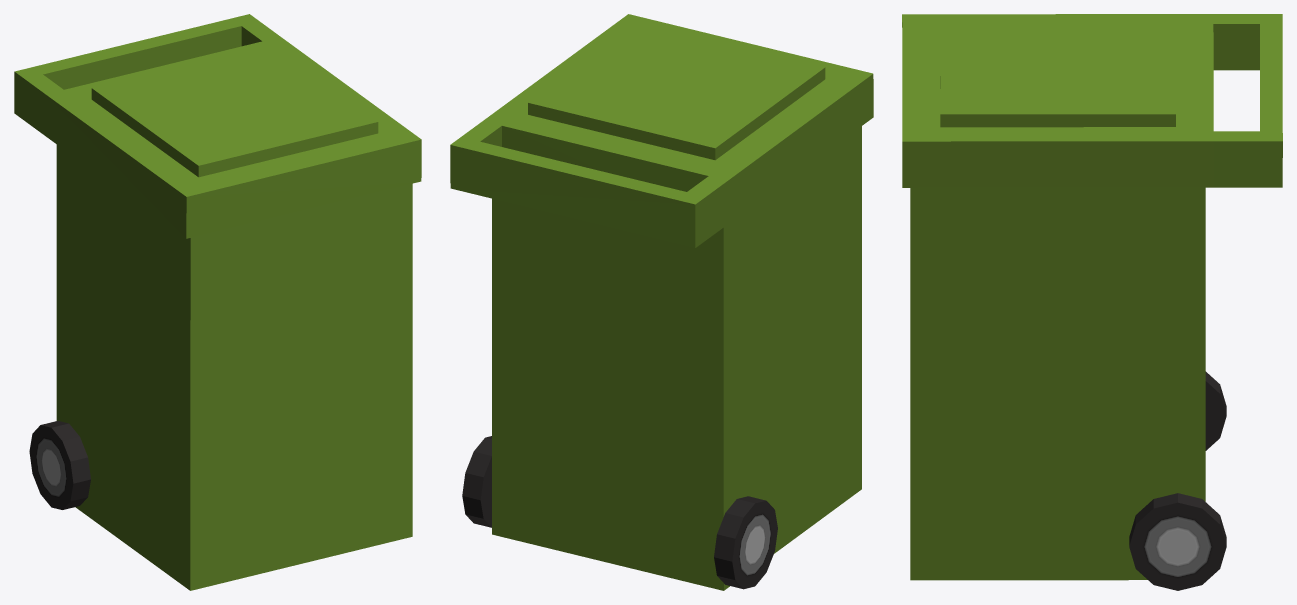
File: SM_WheelieBin_Closed_01.fbx
3 views of the same model, side by side, from view 1: azimuth 30°, elevation 25°; view 2: azimuth 150°, elevation 25°; view 3: azimuth 270°, elevation 25° (orthographic). The views are drawn at different scales.
Visible parts, largest first — view 1: SM_WheelieBin_Closed_01; view 2: SM_WheelieBin_Closed_01; view 3: SM_WheelieBin_Closed_01.
Boxes of the visible parts, box(x1,y1,x2,y2) form: SM_WheelieBin_Closed_01: box(14, 14, 421, 590); SM_WheelieBin_Closed_01: box(450, 14, 873, 590); SM_WheelieBin_Closed_01: box(902, 14, 1282, 590).
Bounding box in the file's own units: 1.17 × 1.76 × 1.34.
